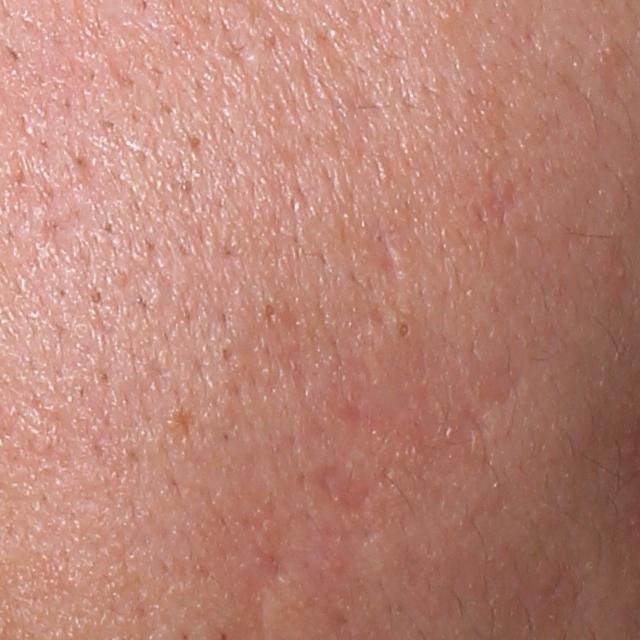atrophic_scar: (235, 533, 306, 633), (309, 461, 373, 519), (378, 238, 403, 280)
comedo: (391, 314, 419, 346)
